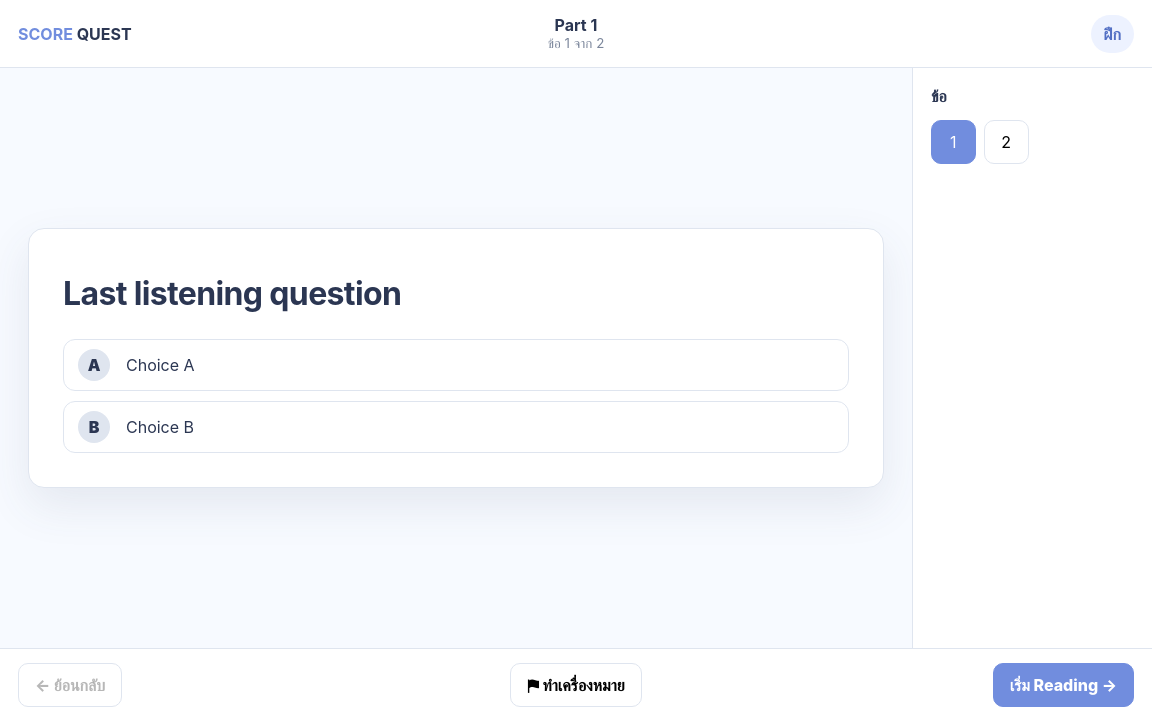
Test: ExamPage › moves from the final Listening question to the server-timed Reading section
The width and height of the screenshot is (1152, 720).
Click the button "เริ่ม Reading →" at (1063, 684), box [993,662,1134,706]
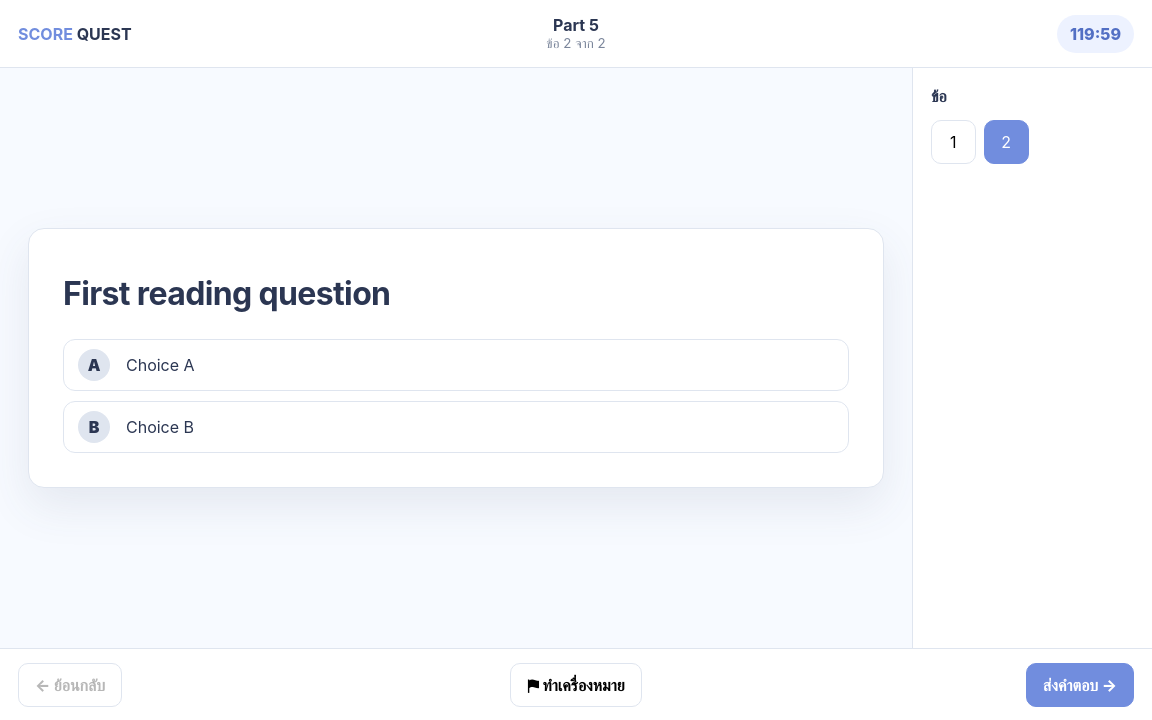
Expected: the heading "First reading question" is shown, [63,274,390,313]
